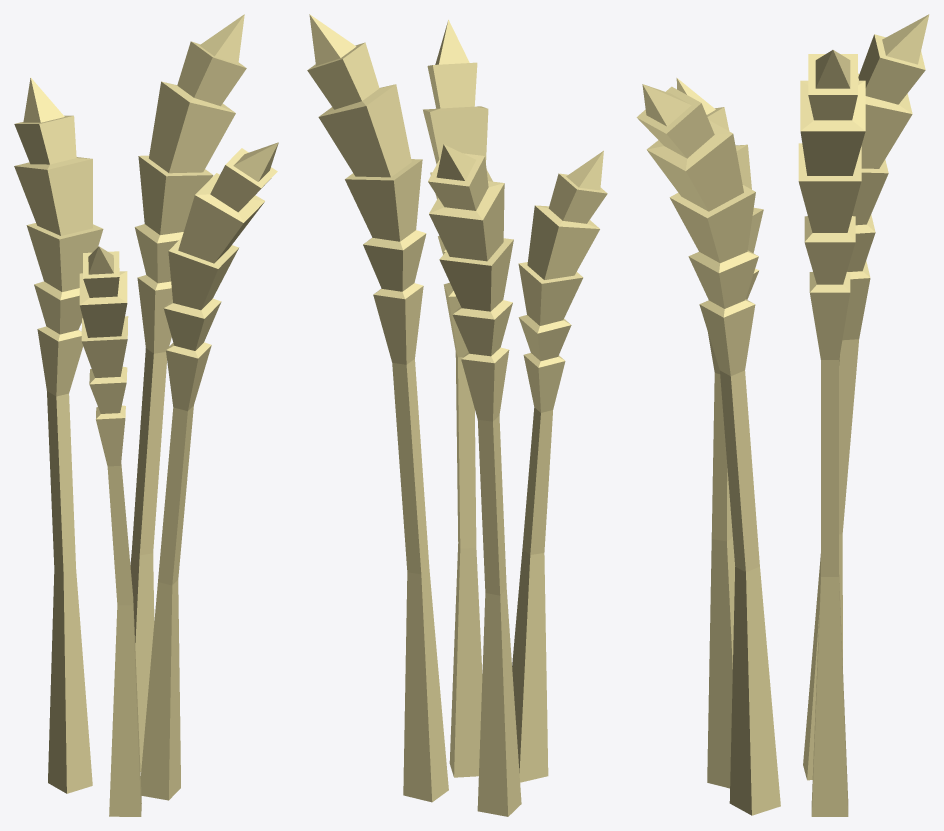
The model's file is flower_parts.glb.
3 views of the same model, side by side, from view 1: azimuth 30°, elevation 25°; view 2: azimuth 150°, elevation 25°; view 3: azimuth 270°, elevation 25° (orthographic). The views are drawn at different scales.
Parts seen in each view (by area): view 1: Wheat; view 2: Wheat; view 3: Wheat.
Part boxes in pixels (x1,y1,x2,y2): Wheat: [14, 14, 278, 816]; Wheat: [307, 14, 607, 816]; Wheat: [636, 14, 929, 816].
Size of the model in its own units: 58.43 by 180 by 58.22.
